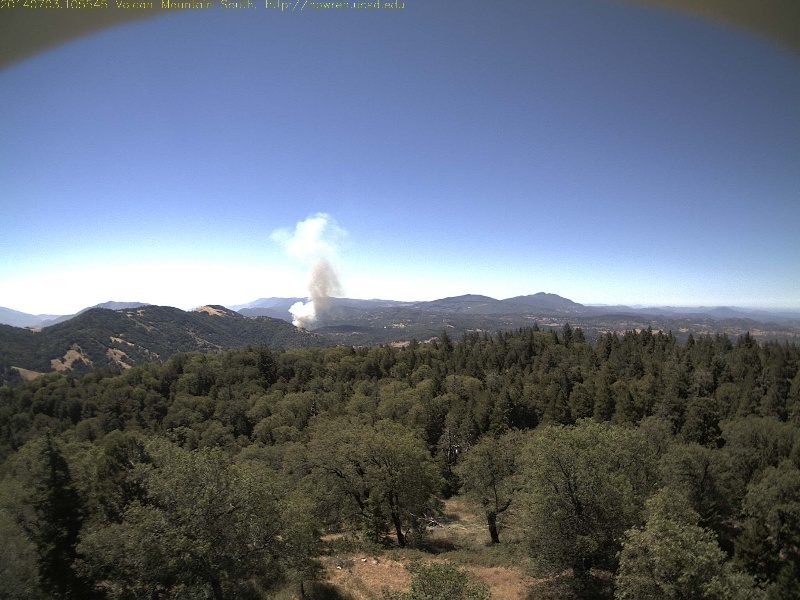smoke: (281, 218, 333, 327)
